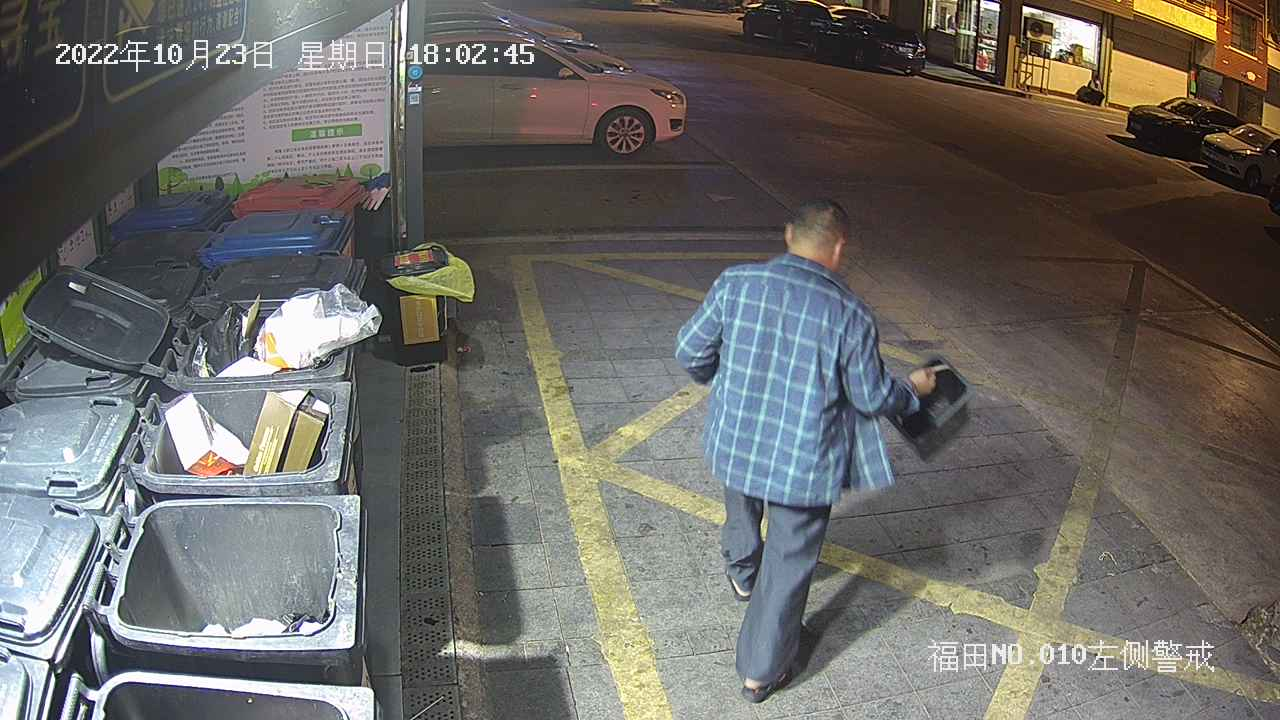person: (671, 195, 938, 706)
youtong: (883, 352, 974, 465)
